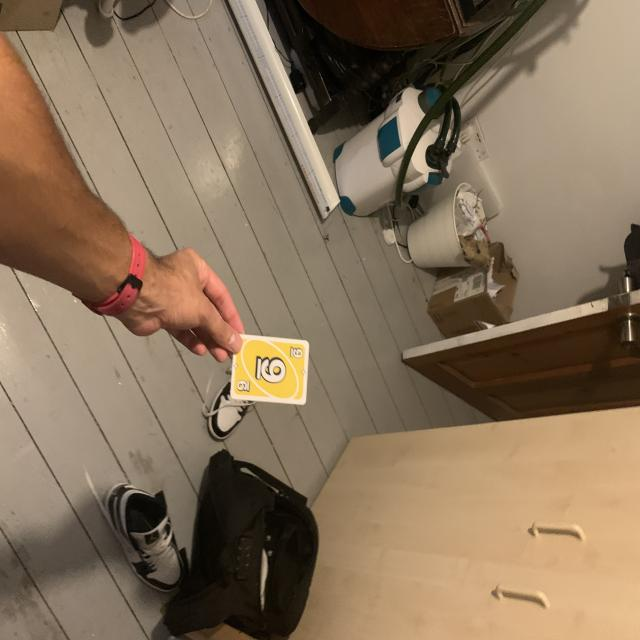lyellow-9: (288, 344, 305, 362)
